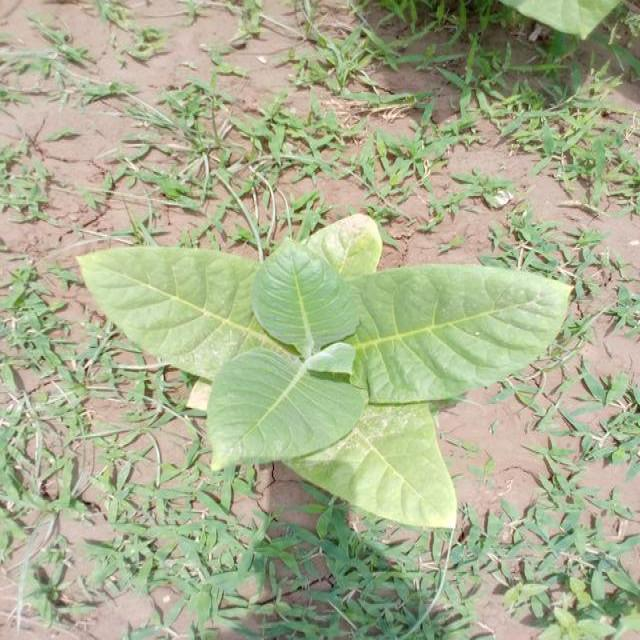crop: (90, 239, 570, 542)
